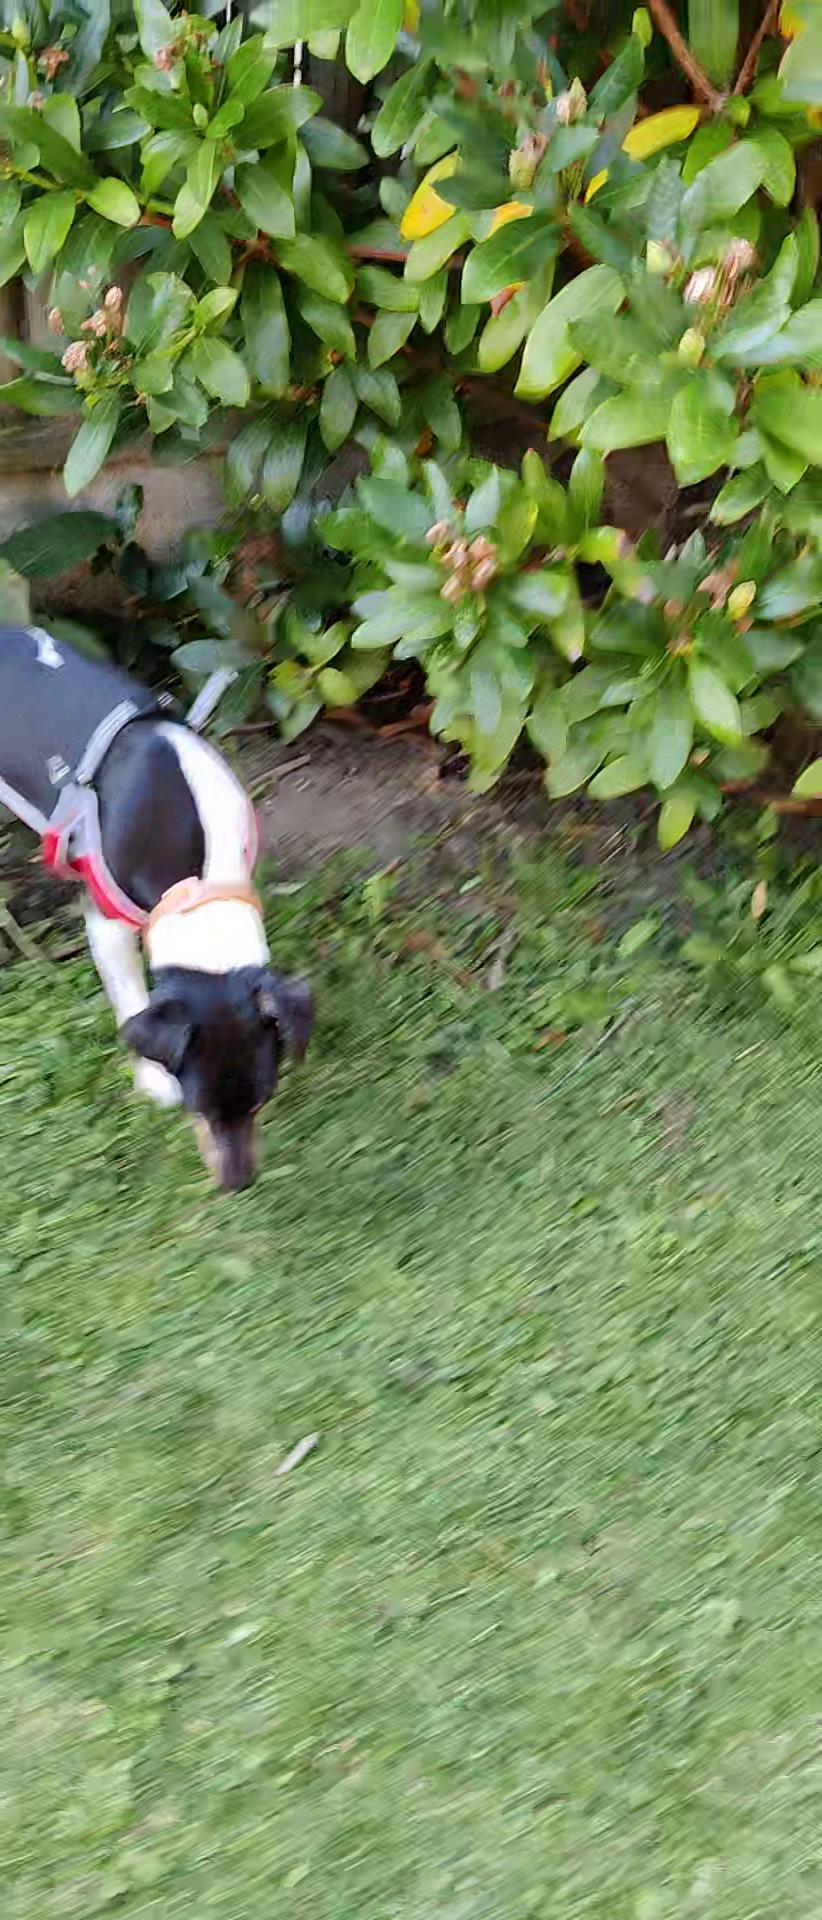Dog: (0, 572, 337, 1217)
